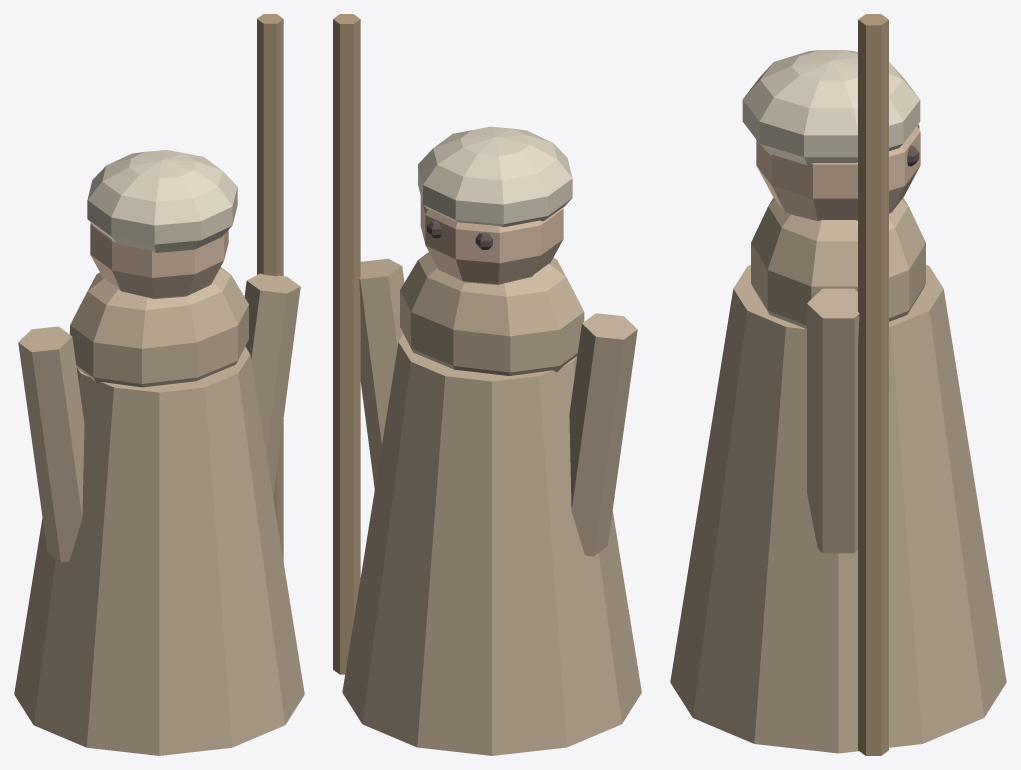
File: shepherd.glb
3 renders of one model, left to right at view 1: azimuth 30°, elevation 25°; view 2: azimuth 150°, elevation 25°; view 3: azimuth 270°, elevation 25°, orthographic. The views are drawn at different scales.
Parts seen in each view (by area): view 1: shepherd; view 2: shepherd; view 3: shepherd.
Part boxes in pixels (box(x1,y1,x2,y2)): shepherd: box(14, 14, 304, 755); shepherd: box(333, 14, 641, 755); shepherd: box(670, 14, 1006, 755).
Bounding box in the file's own units: 0.5155 × 1.15 × 0.48.
